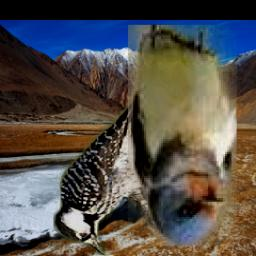Swallow: (128, 25, 237, 246)
Woodpecker: (54, 70, 175, 255)
